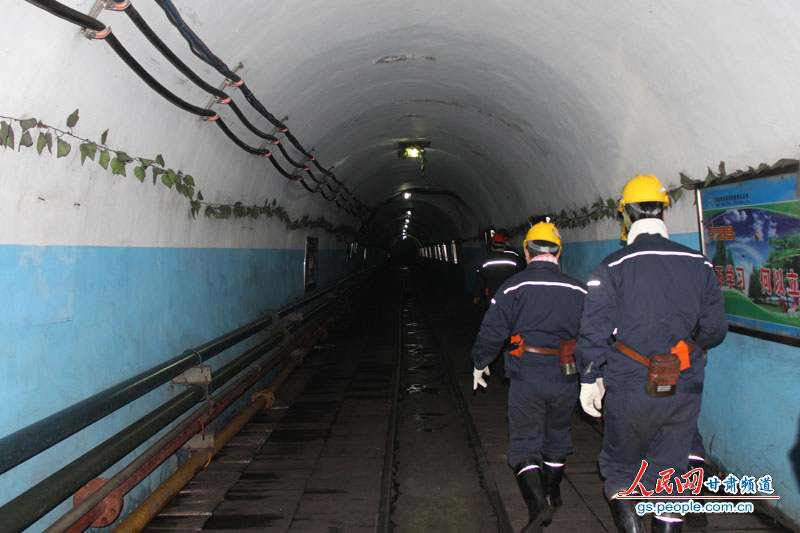helmet: (610, 175, 688, 236), (512, 219, 581, 276)
